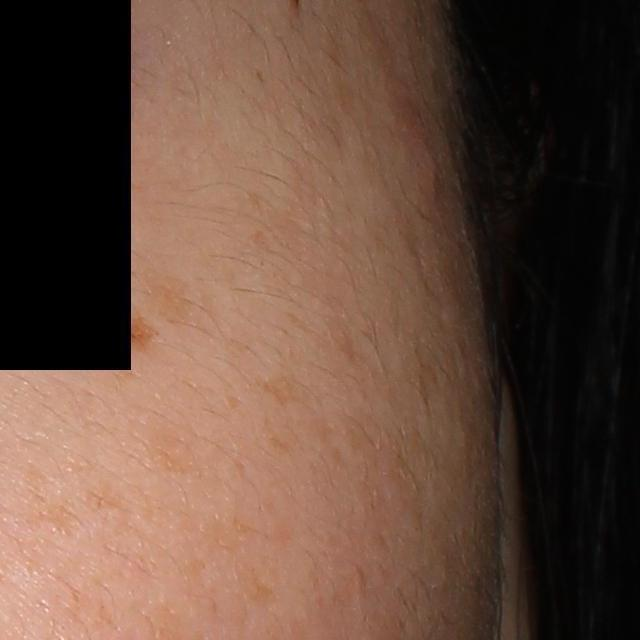melasma: (19, 456, 90, 542), (211, 556, 281, 617), (246, 369, 326, 417), (143, 266, 196, 327), (101, 308, 160, 356), (316, 318, 364, 369)
